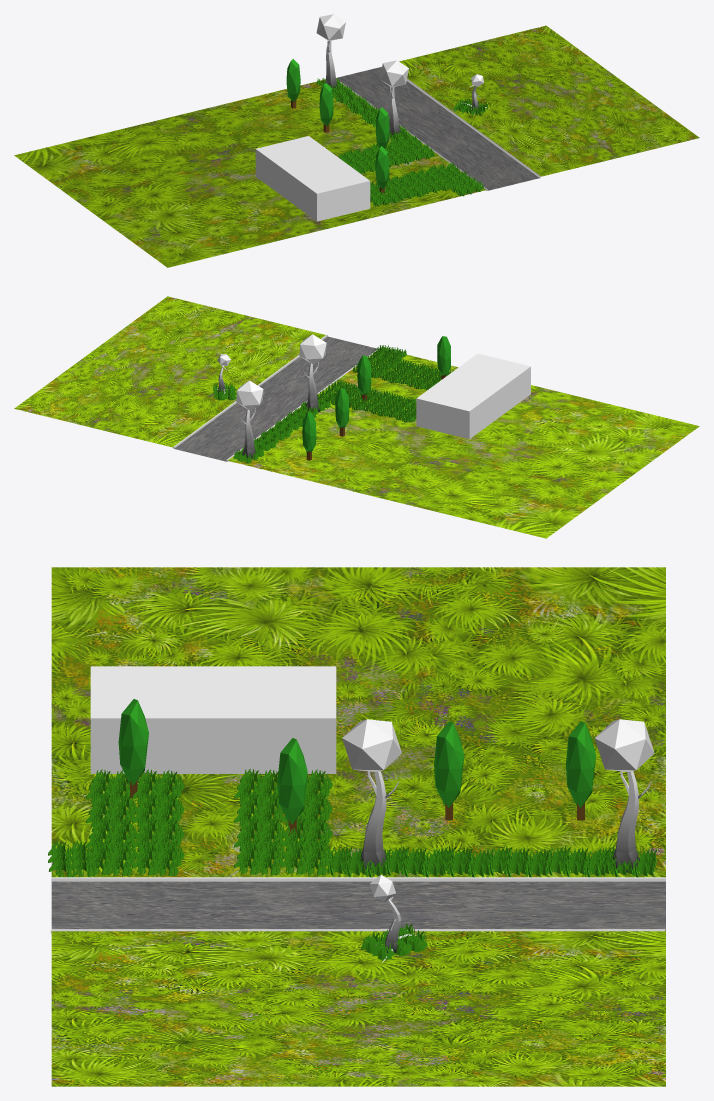
The model's file is Module_3_SM4.fbx.
The picture shows the model from 3 angles, top to bottom: view 1: azimuth 30°, elevation 25°; view 2: azimuth 150°, elevation 25°; view 3: azimuth 270°, elevation 25°; orthographic projection. The views are drawn at different scales.
Parts seen in each view (by area): view 1: Module_3_SM2_LOD0; view 2: Module_3_SM2_LOD0; view 3: Module_3_SM2_LOD0.
Boxes of the visible parts, x1,y1,x2,y2 form: Module_3_SM2_LOD0: [14, 14, 699, 267]; Module_3_SM2_LOD0: [14, 296, 699, 538]; Module_3_SM2_LOD0: [48, 567, 665, 1086].
Bounding box in the file's own units: 10003 × 5030 × 1459.
